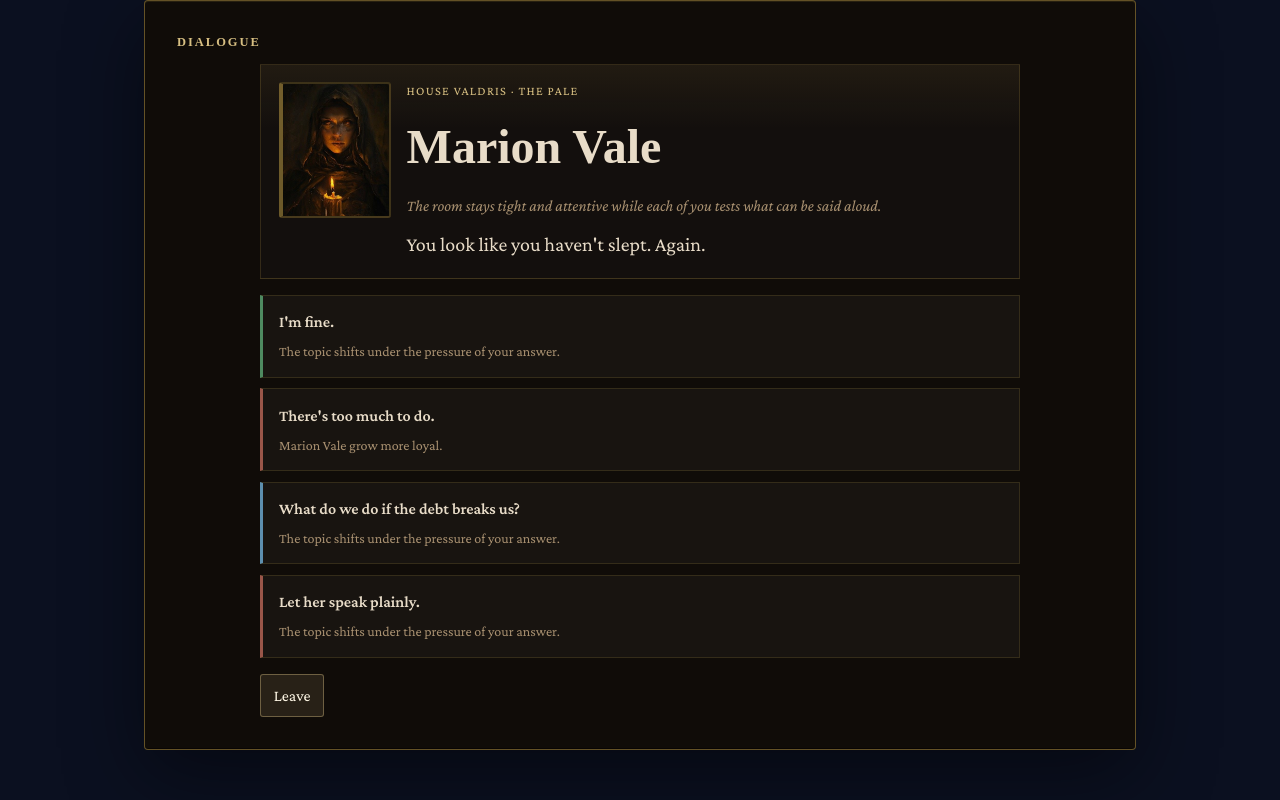
Test: DialogueScreen › shows the resolved follow-up line after a choice with consequences
Click the button "There's too much to do. Marion Vale grow more loyal." at (357, 415), box [260,388,1020,471]
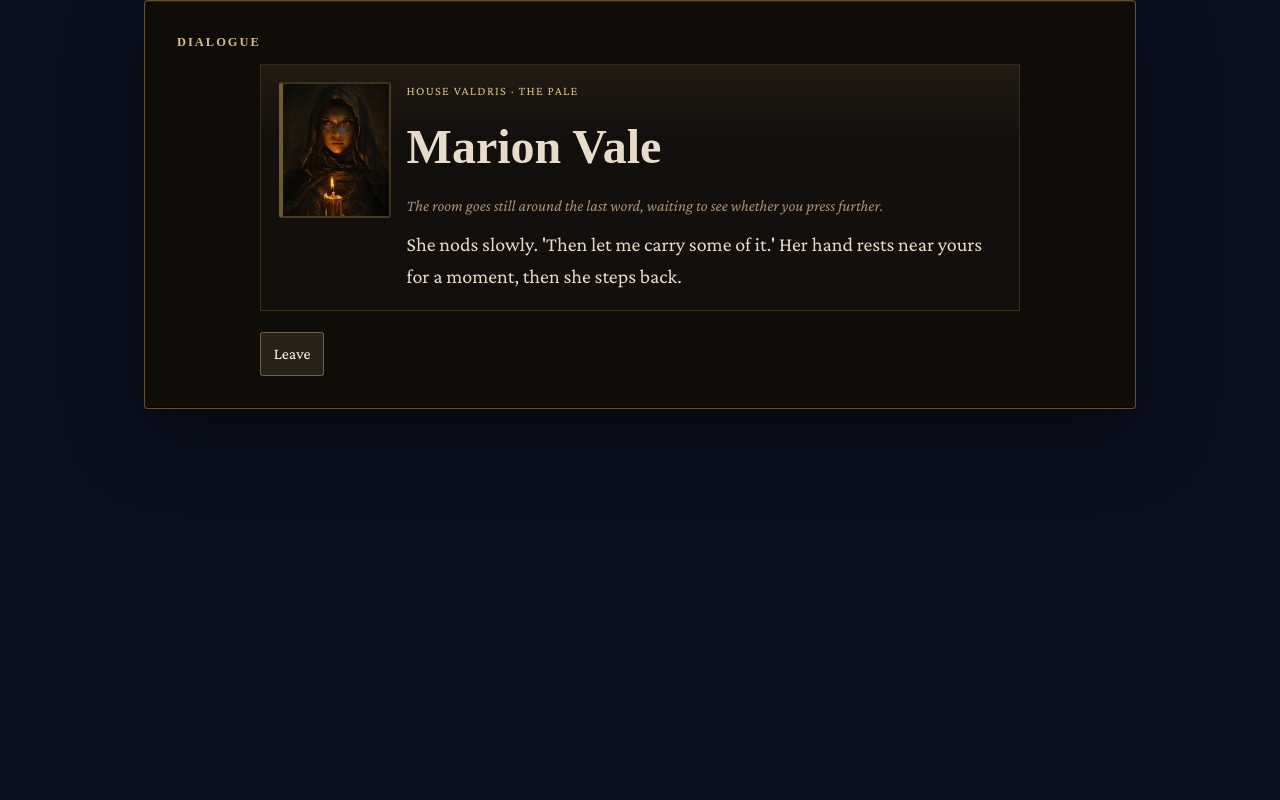
expect the button "Leave" is shown: met, box [260,332,324,376]
expect the text "Then let me carry some of it." is shown: met, box [407,233,982,287]
